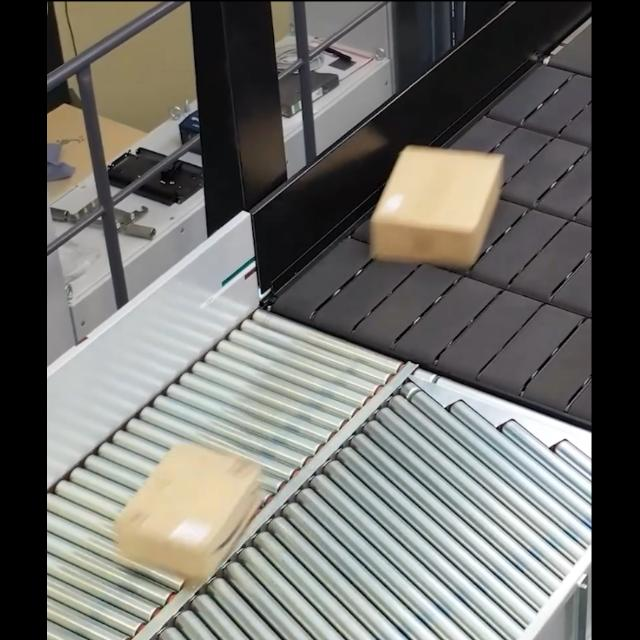box: (115, 443, 263, 581), (375, 144, 505, 266)
